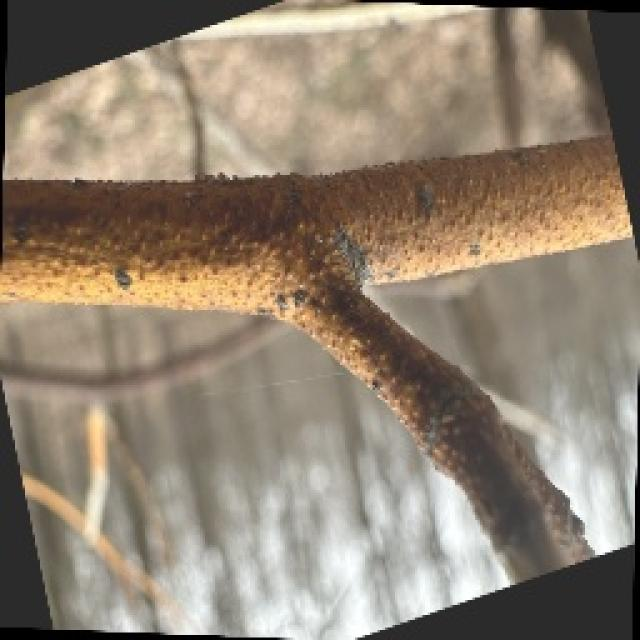Golden_canker: (1, 110, 627, 542)
